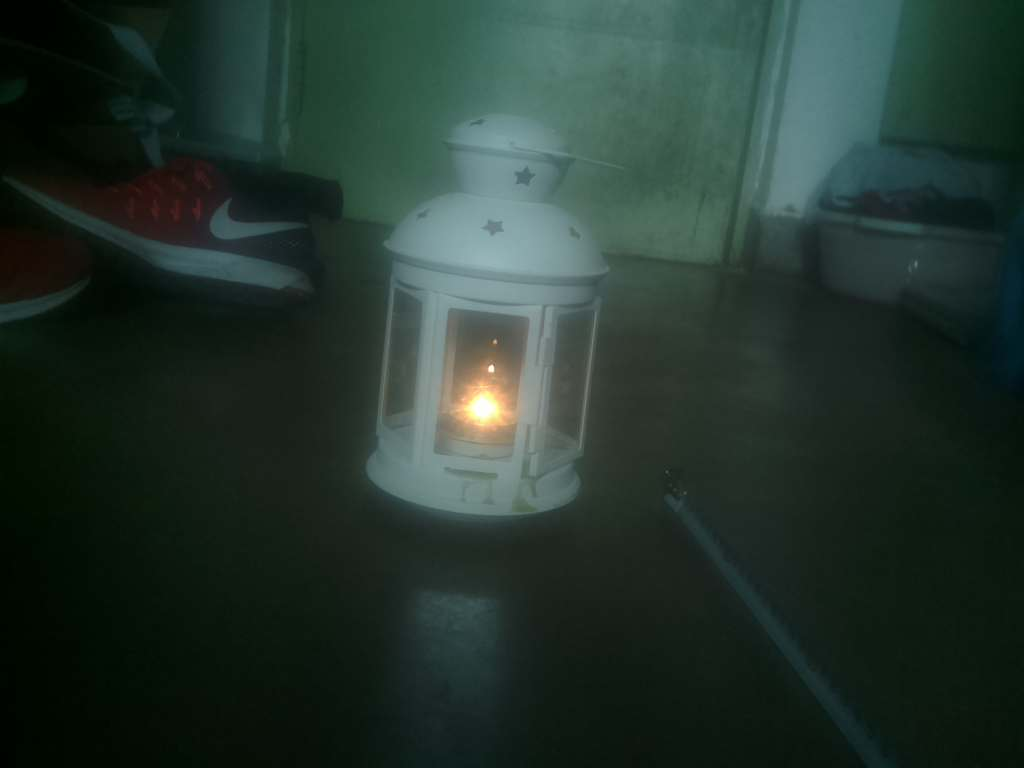fire: (409, 359, 546, 468)
